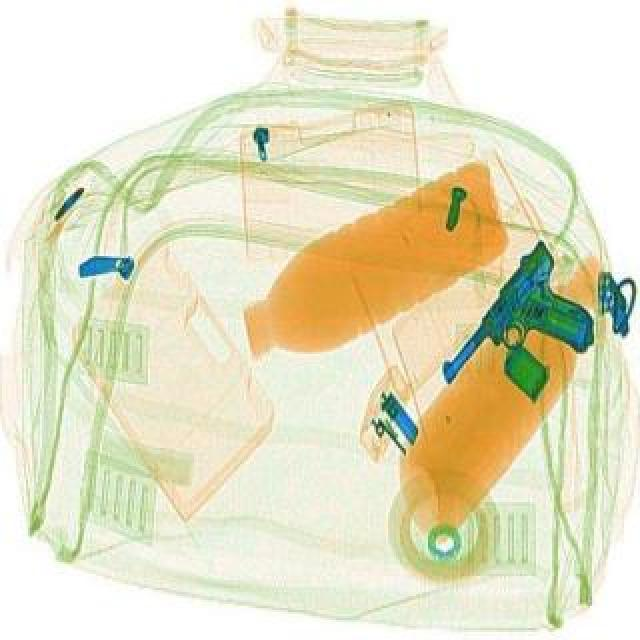gun: (410, 226, 640, 422)
